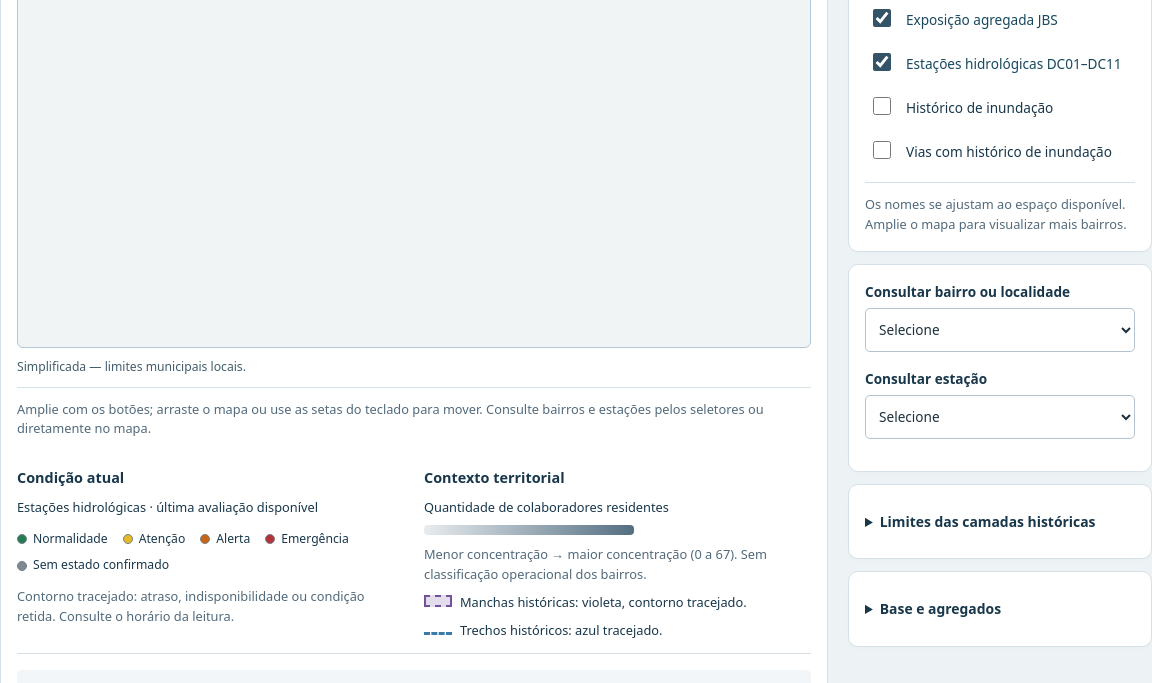
it: Fase 07 — regressão funcional do mapa migrado › bairro mostra agregados e história, sem cenários ou condição atual
The image size is (1152, 683).
(page scrolled)
Select "São Vicente · 67 residentes" in the dropdown labelled "Consultar bairro ou localidade" at (1000, 330), box [865,308,1135,352]
(page scrolled)
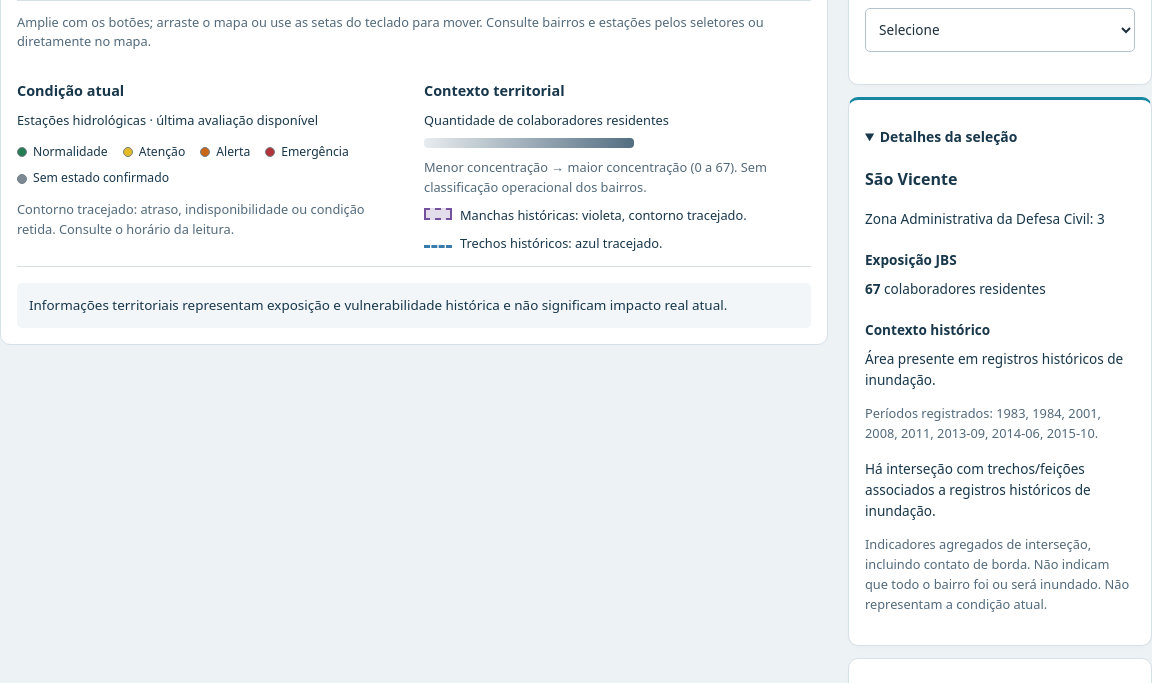
Now the heading "Exposição JBS" is shown, box [865,250,957,269]
Now the heading "Contexto histórico" is shown, box [865,320,990,339]
